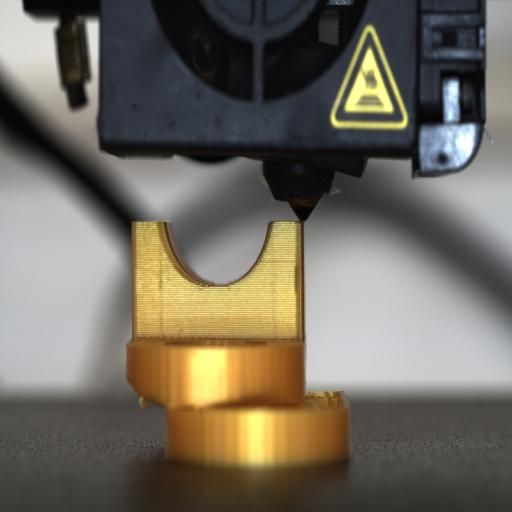layer_shift: (127, 381, 351, 416)
